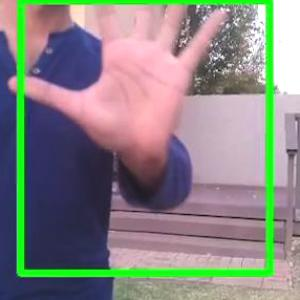follow_hand: (4, 0, 233, 170)
